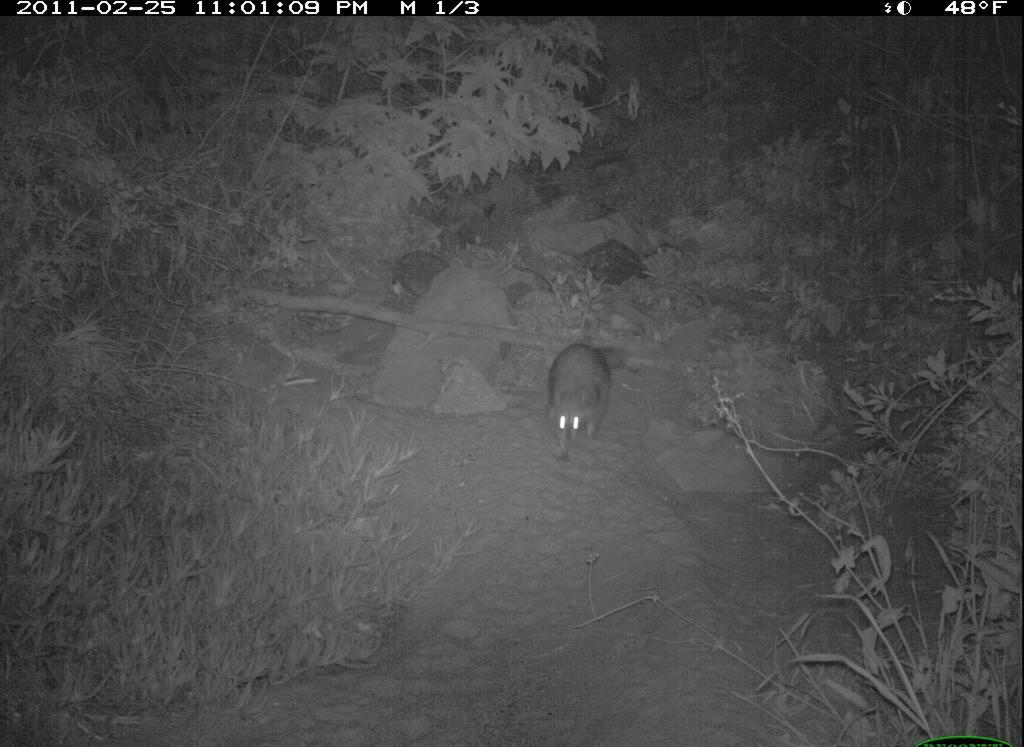raccoon: (545, 323, 630, 465)
